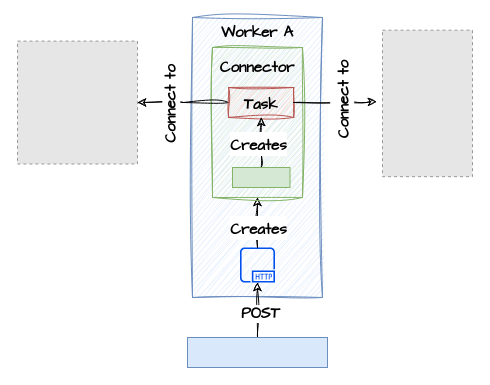
Image size: 490x385. Some labels were removed from this diagram. Grey dashed boxes stand in for pictures. The centre of each missing label's shape, as x and y in pixels:
"Init()" belongs at point 261,177.
"{ Connect-config }" belongs at point 257,352.
